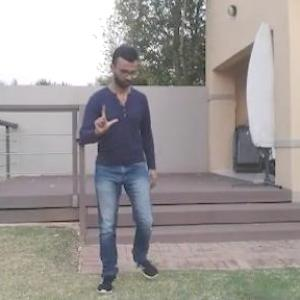land_hand: (90, 99, 120, 137)
